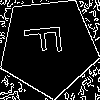F: (23, 21, 71, 57)
